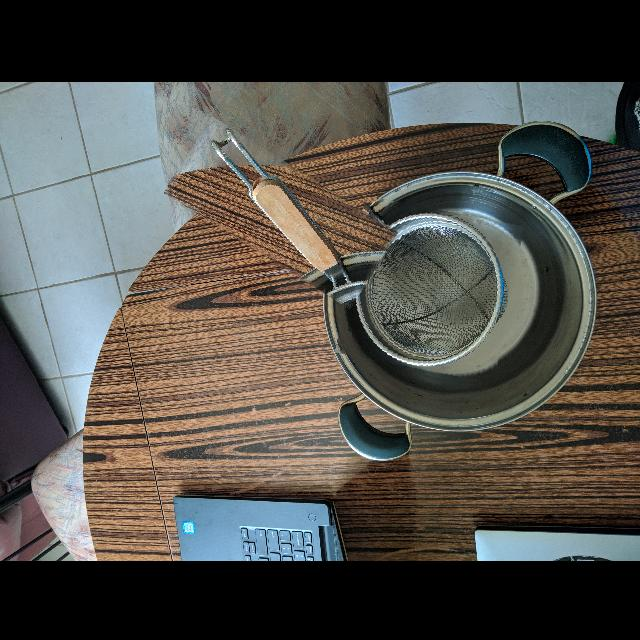Handle: (198, 122, 373, 295)
Strainer: (351, 206, 516, 370)
